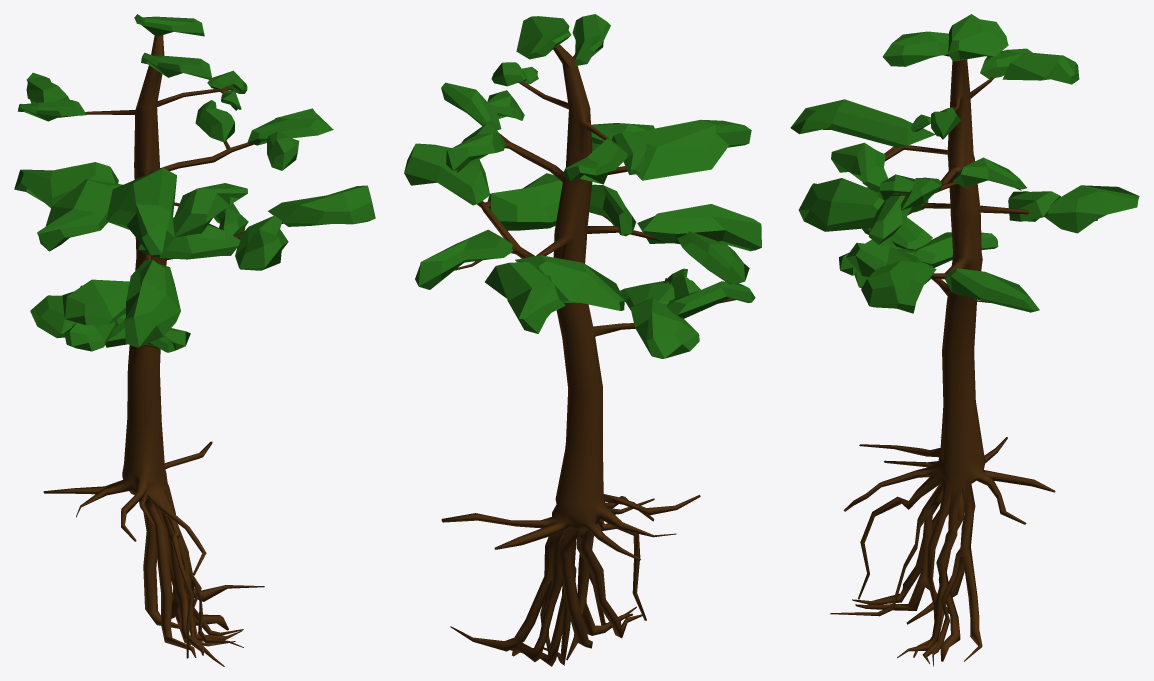
Rendered from treeNew.fbx.
3 views of the same model, side by side, from view 1: azimuth 30°, elevation 25°; view 2: azimuth 150°, elevation 25°; view 3: azimuth 270°, elevation 25° (orthographic). The views are drawn at different scales.
Parts seen in each view (by area): view 1: Cube.002; view 2: Cube.002; view 3: Cube.002.
Part boxes in pixels (x1,y1,x2,y2): Cube.002: [14, 14, 375, 666]; Cube.002: [404, 14, 761, 666]; Cube.002: [790, 14, 1139, 666].
Size of the model in its own units: 1264 by 2382 by 1221.
